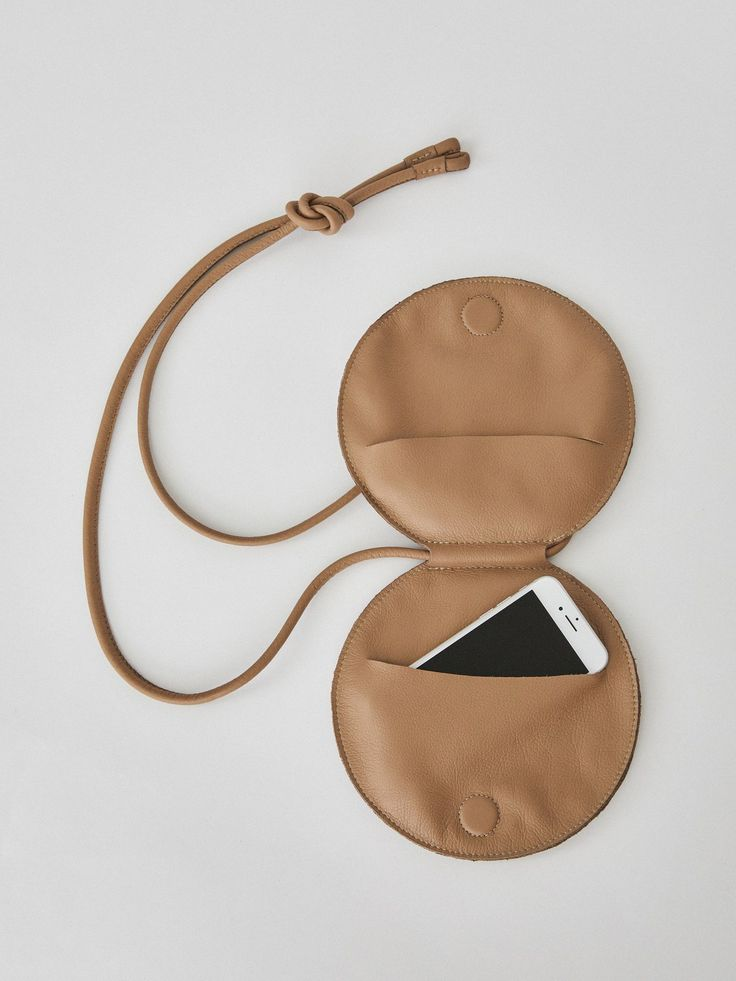cuero: (328, 275, 643, 866)
